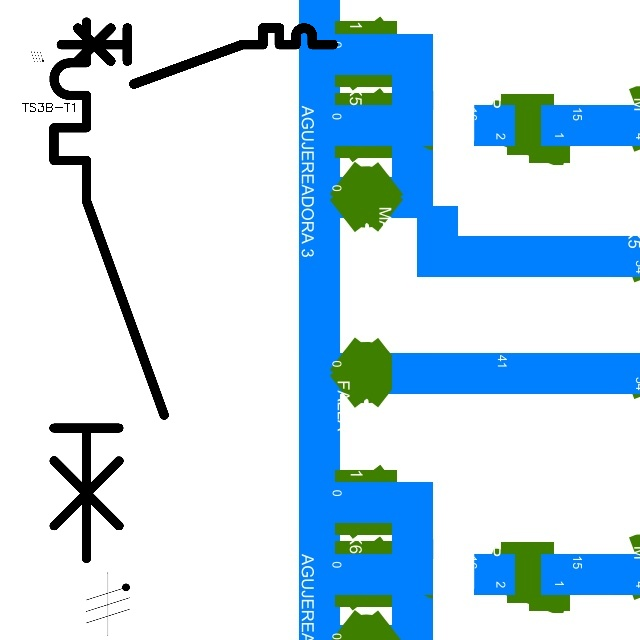interruptor_termomagnetico: (40, 8, 178, 572), (54, 21, 340, 91)
